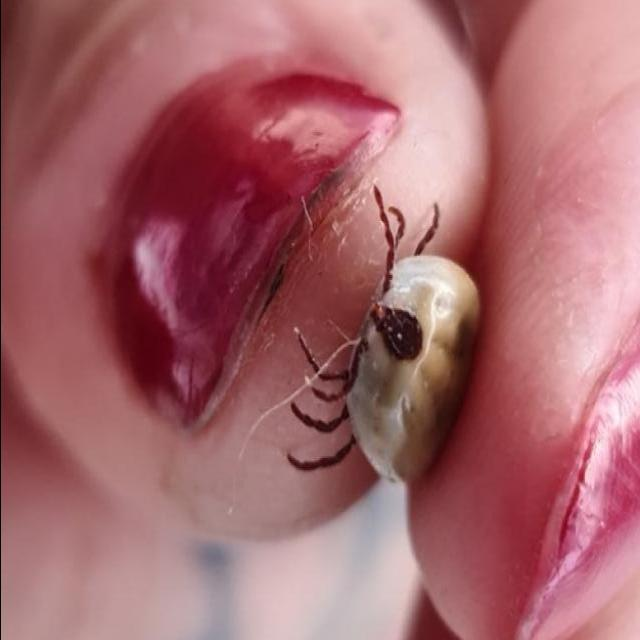Rhipicephalus Sanguineus-F-Fed: (287, 184, 479, 484)
